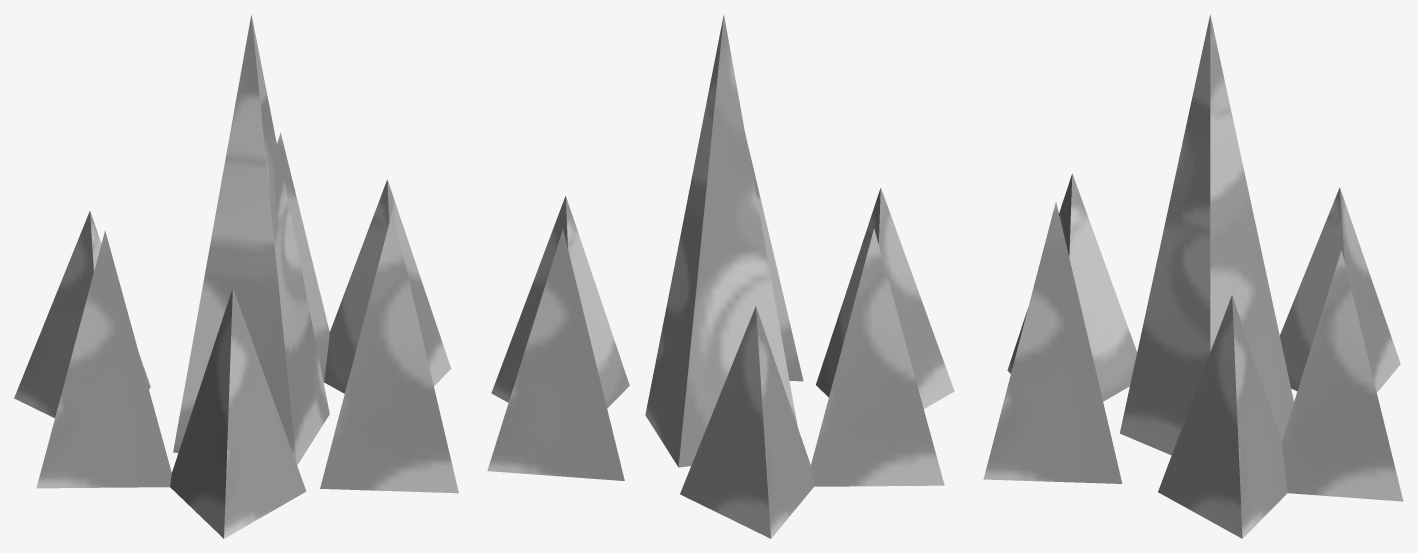
The model's file is alocasia.obj.
3 renders of one model, left to right at view 1: azimuth 30°, elevation 25°; view 2: azimuth 150°, elevation 25°; view 3: azimuth 270°, elevation 25°, orthographic.
Visible parts, largest first — view 1: alocasia; view 2: alocasia; view 3: alocasia.
Part boxes in pixels (<box>): alocasia: <box>14,14,458,538</box>; alocasia: <box>487,14,954,538</box>; alocasia: <box>983,15,1403,538</box>.
Size of the model in its own units: 0.4978 by 0.46 by 0.4174.
